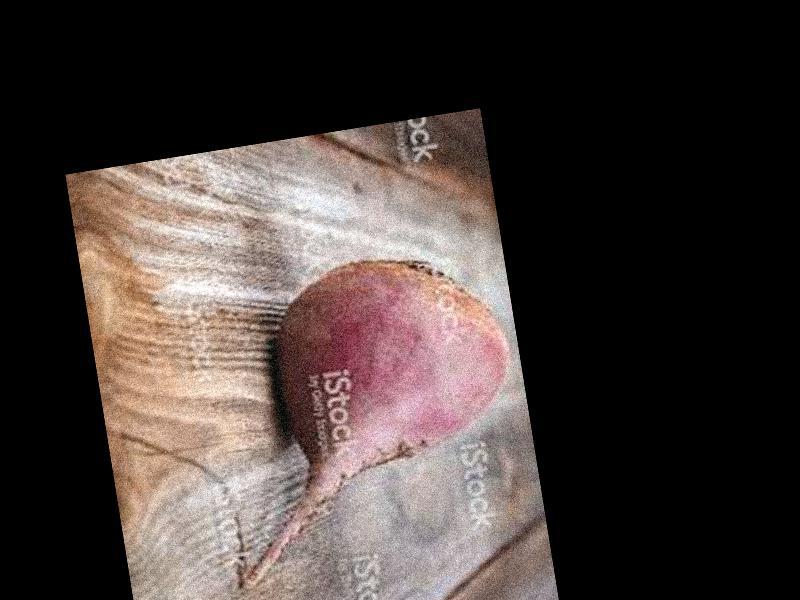Beet: (194, 240, 540, 592)
